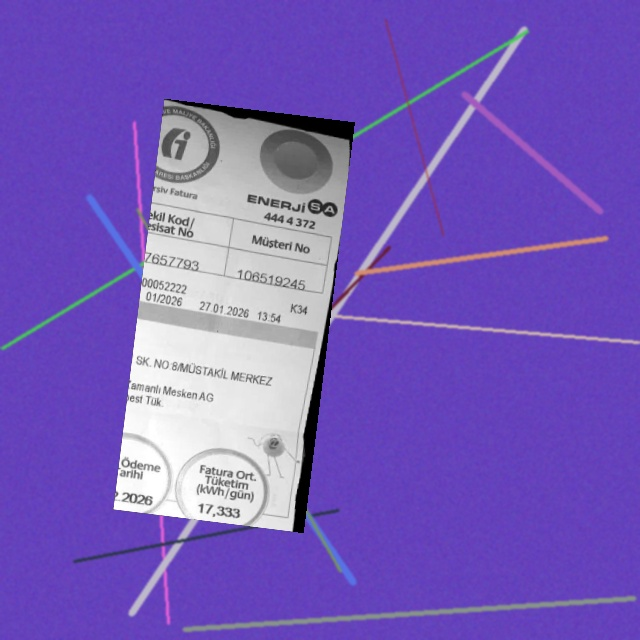electricity-bill: (113, 99, 355, 533)
